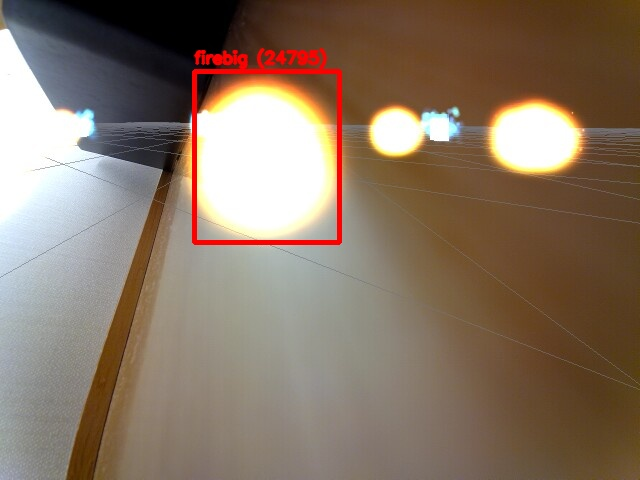firebig: (194, 71, 339, 242)
